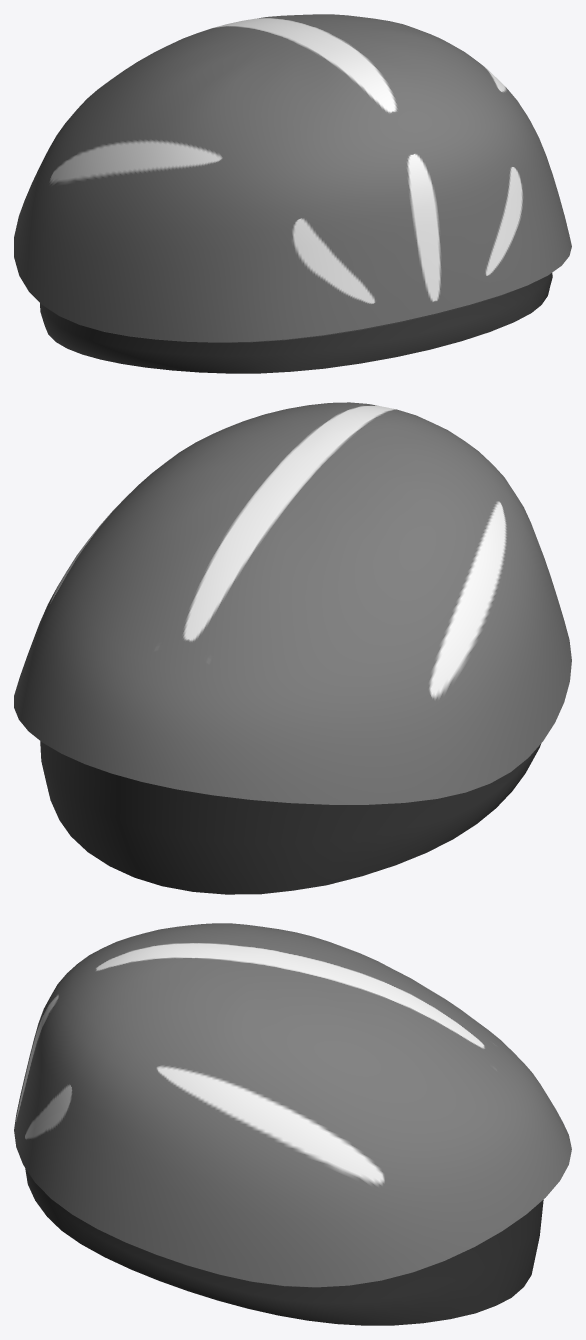
File: hat_9.glb
3 views of the same model, one above another, from view 1: azimuth 30°, elevation 25°; view 2: azimuth 150°, elevation 25°; view 3: azimuth 270°, elevation 25° (orthographic). The views are drawn at different scales.
Parts seen in each view (by area): view 1: BikeHelmet; view 2: BikeHelmet; view 3: BikeHelmet.
Boxes of the visible parts, x1,y1,x2,y2 form: BikeHelmet: (14, 14, 571, 373); BikeHelmet: (14, 402, 571, 894); BikeHelmet: (14, 923, 571, 1325).
Size of the model in its own units: 63.02 by 42.22 by 68.47.
Materials: 1 (1 with a texture image).
